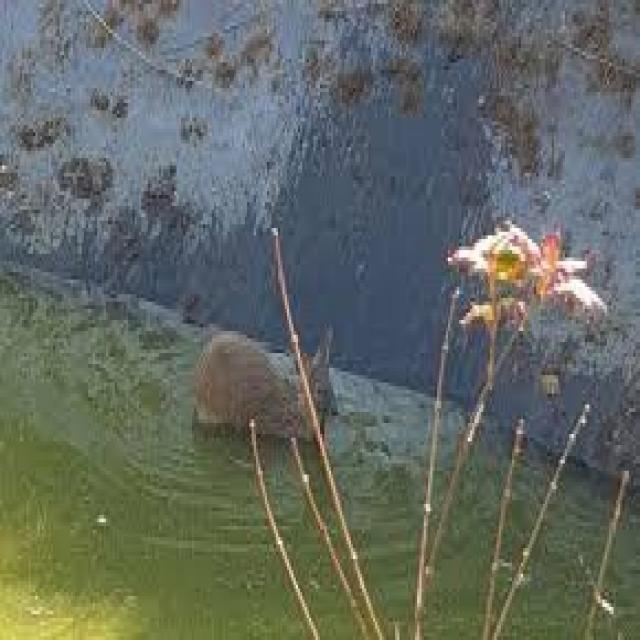elk: (182, 292, 354, 488)
